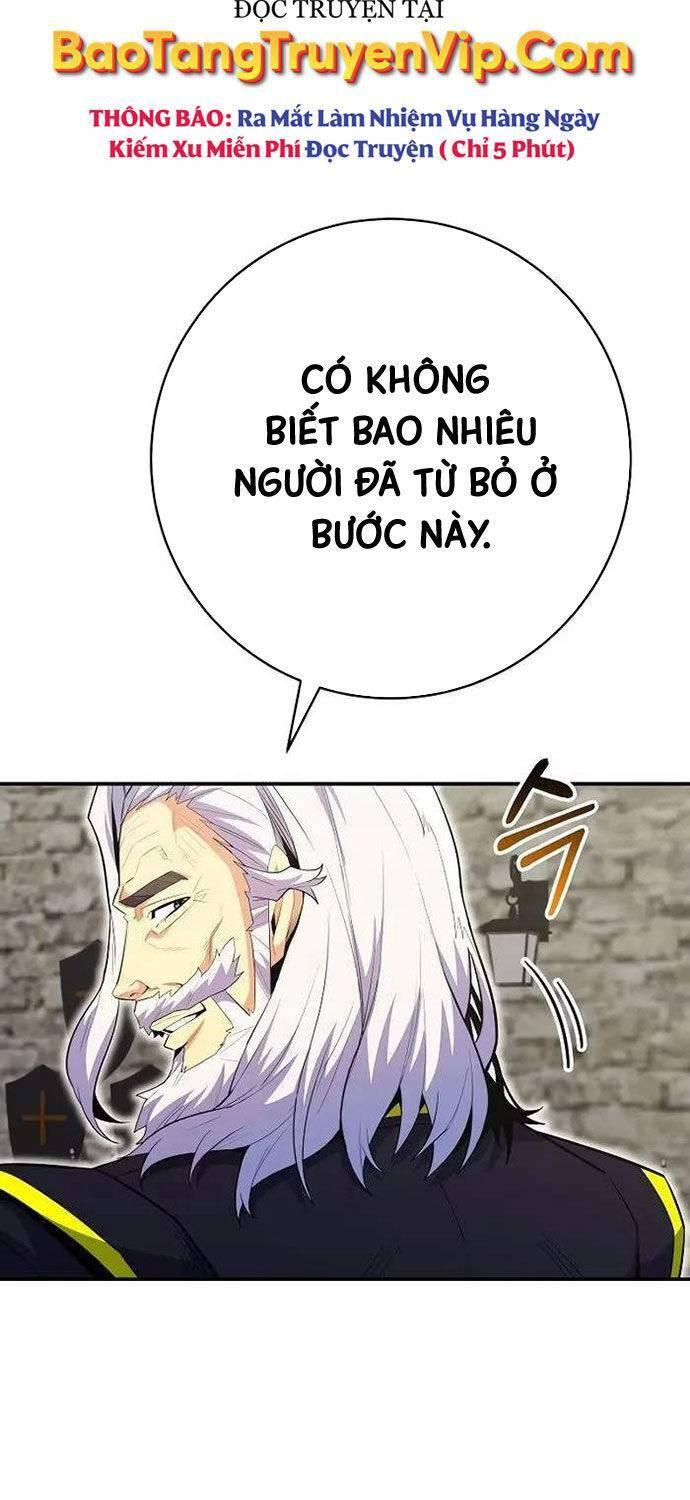quangcao: (42, 0, 642, 182)
